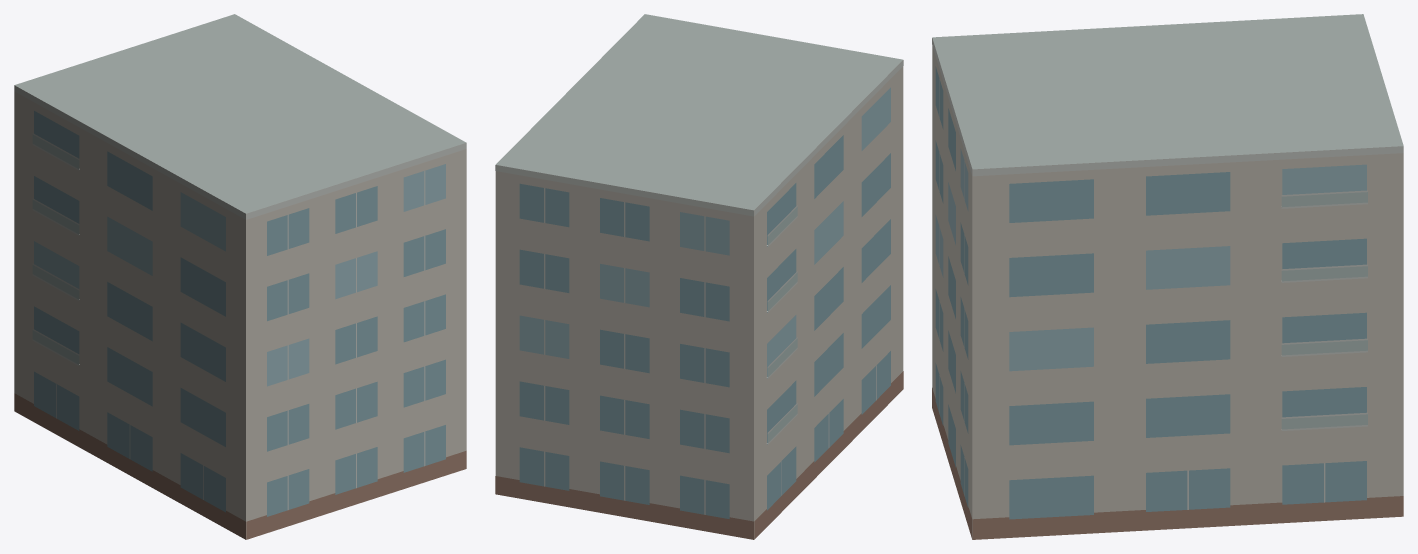
File: survey-upis-33038140.glb
3 renders of one model, left to right at view 1: azimuth 30°, elevation 25°; view 2: azimuth 150°, elevation 25°; view 3: azimuth 270°, elevation 25°, orthographic. The views are drawn at different scales.
Visible parts, largest first — view 1: survey-upis-33038140.tmp; view 2: survey-upis-33038140.tmp; view 3: survey-upis-33038140.tmp.
Boxes of the visible parts, left/top/right/bottom form: survey-upis-33038140.tmp: left=14, top=14, right=466, bottom=539; survey-upis-33038140.tmp: left=495, top=14, right=903, bottom=539; survey-upis-33038140.tmp: left=932, top=14, right=1403, bottom=539.
Size of the model in its own units: 11.66 by 12.95 by 14.95.
